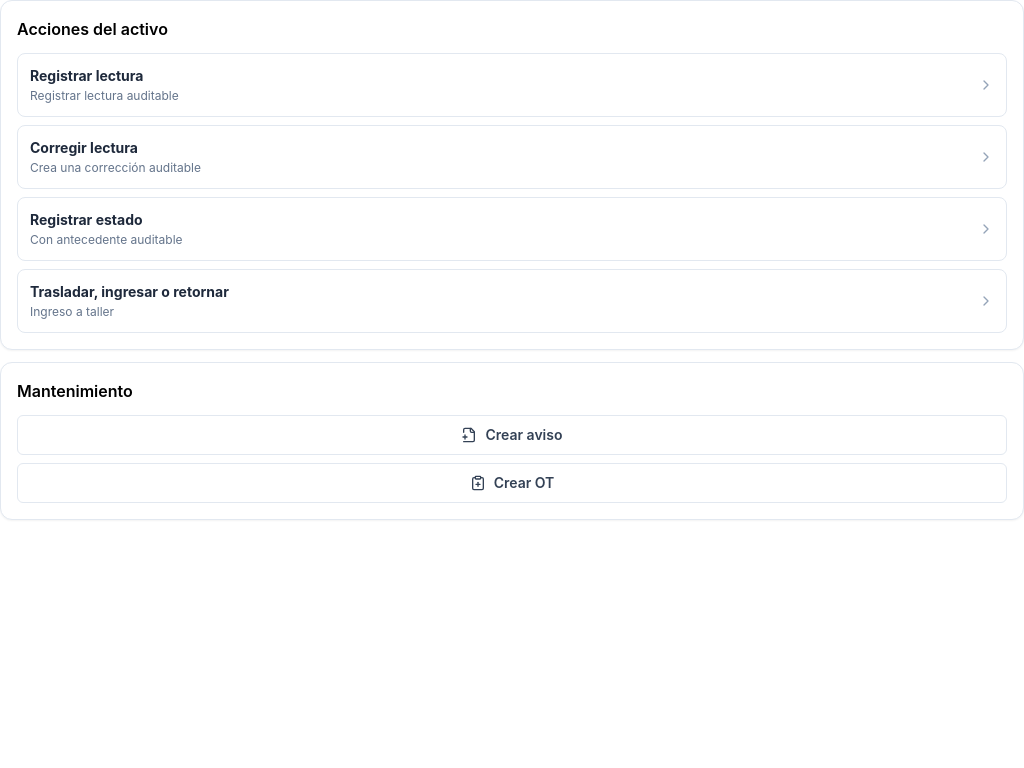
Test: AssetActionsPanel › keeps the correction dialog and values visible after a forbidden response
Click the button "Corregir lectura Crea una corrección auditable" at (84, 148), box x1=17 y1=125 x2=1007 y2=189
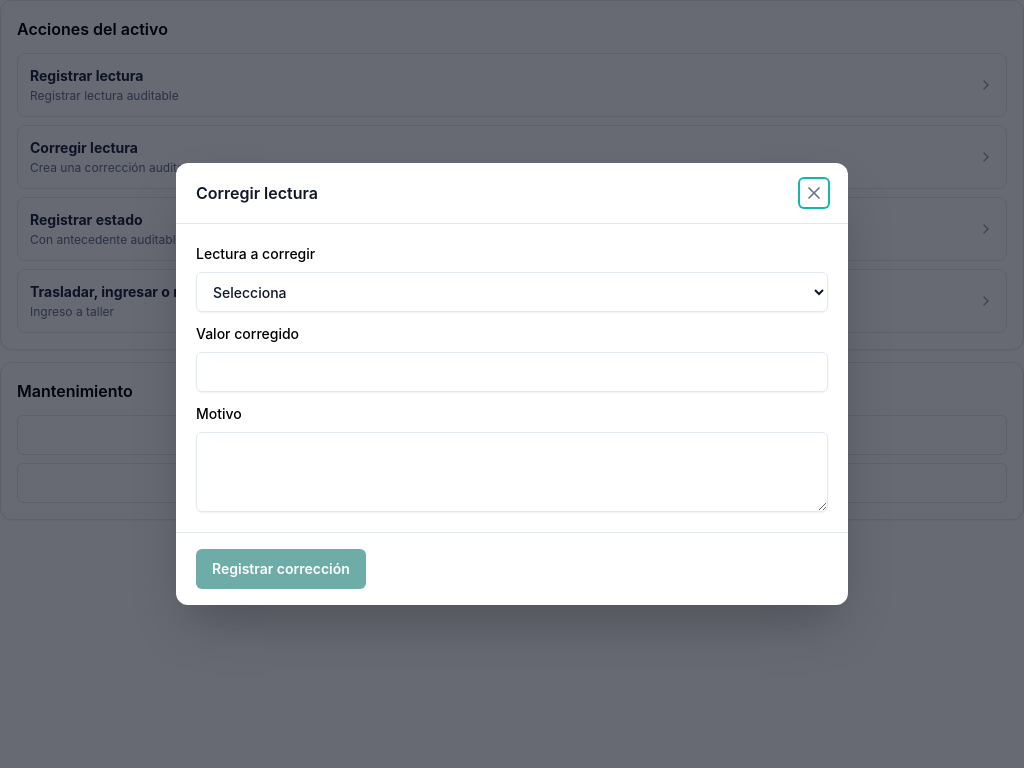
Select "100 h" in the dropdown labelled "Lectura a corregir" at (512, 292), box x1=196 y1=272 x2=828 y2=312
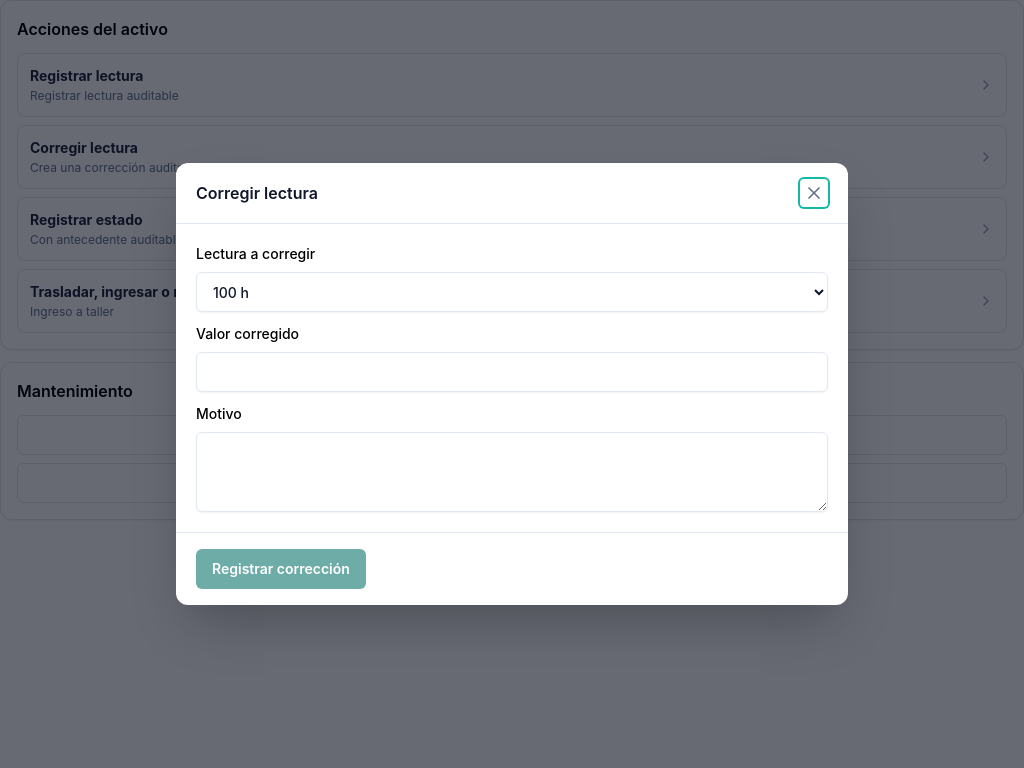
Type "105" into the number field labelled "Valor corregido" at (512, 372), box x1=196 y1=352 x2=828 y2=392
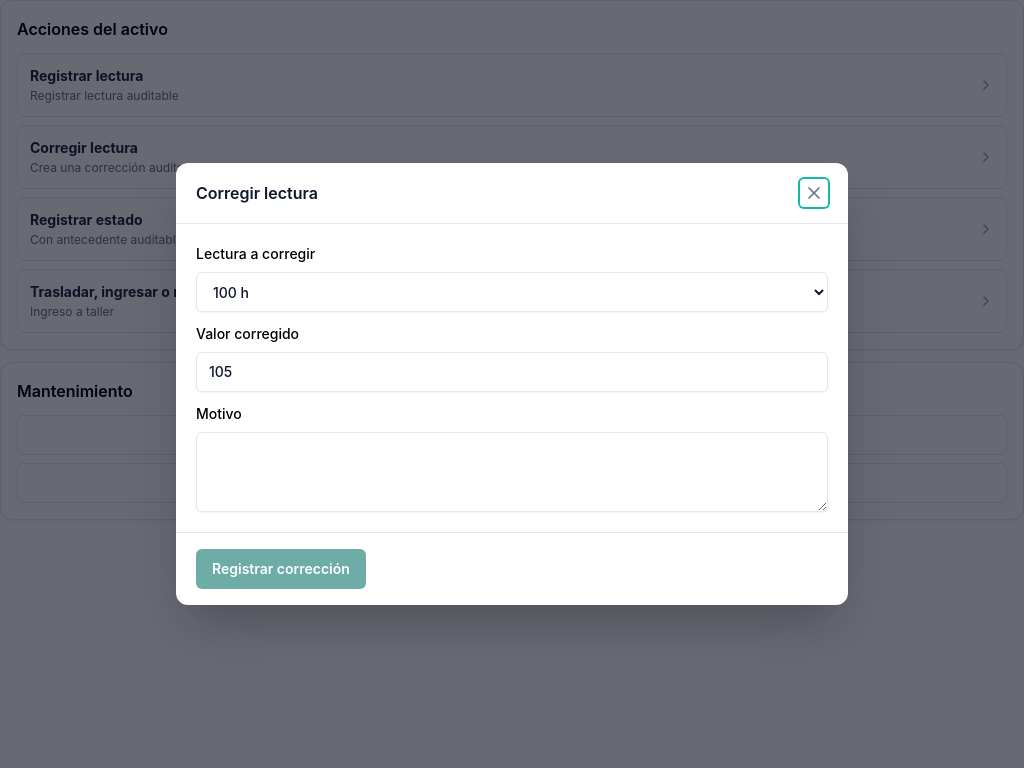
Type "Ajuste validado" into the text box labelled "Motivo" at (512, 472), box x1=196 y1=432 x2=828 y2=512
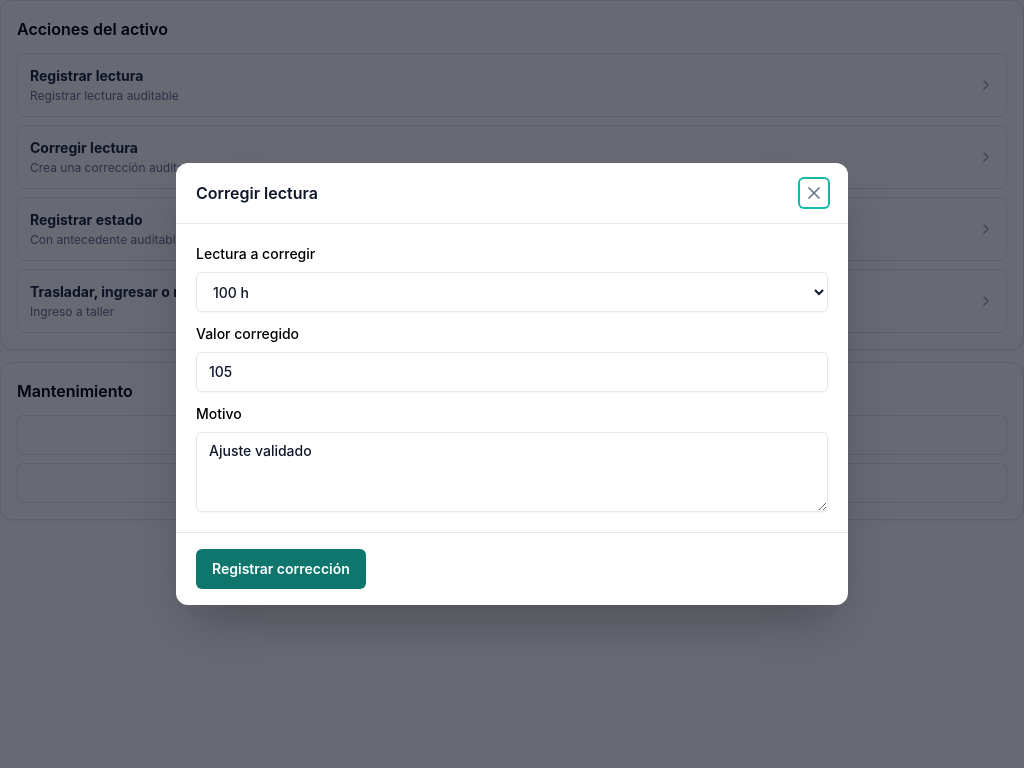
Click the button "Registrar corrección" at (281, 569), box x1=196 y1=549 x2=366 y2=589
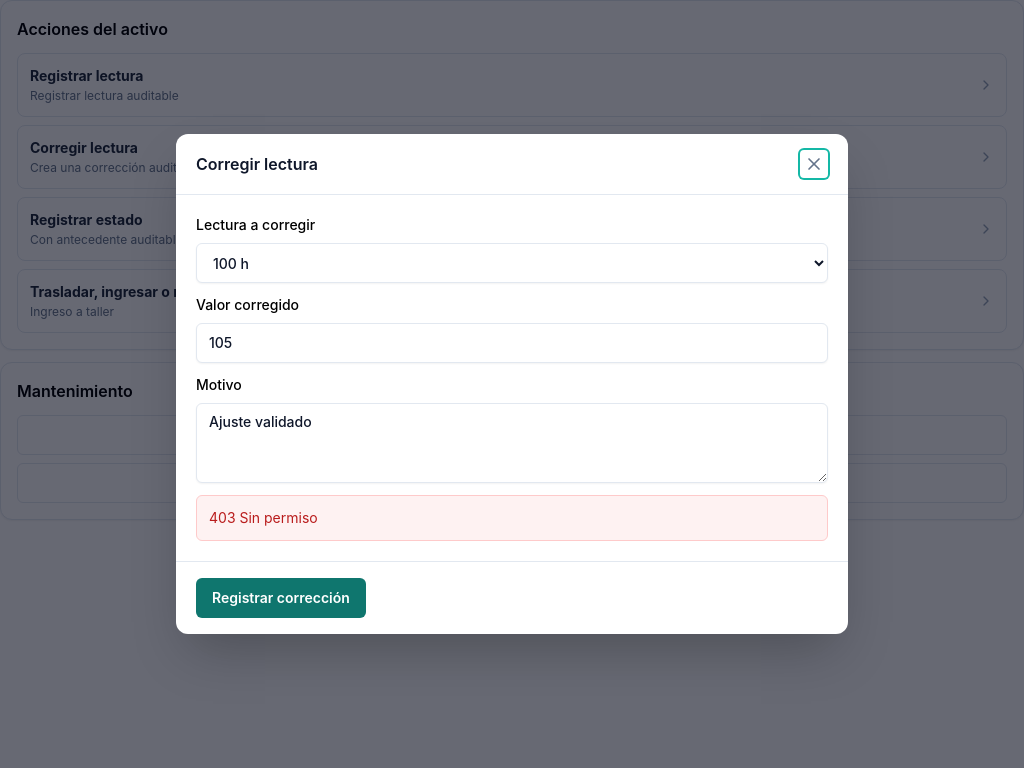
Expected: the dialog is shown, x1=176 y1=134 x2=848 y2=634
Expected: the text "403 Sin permiso" is shown, x1=196 y1=495 x2=828 y2=541
